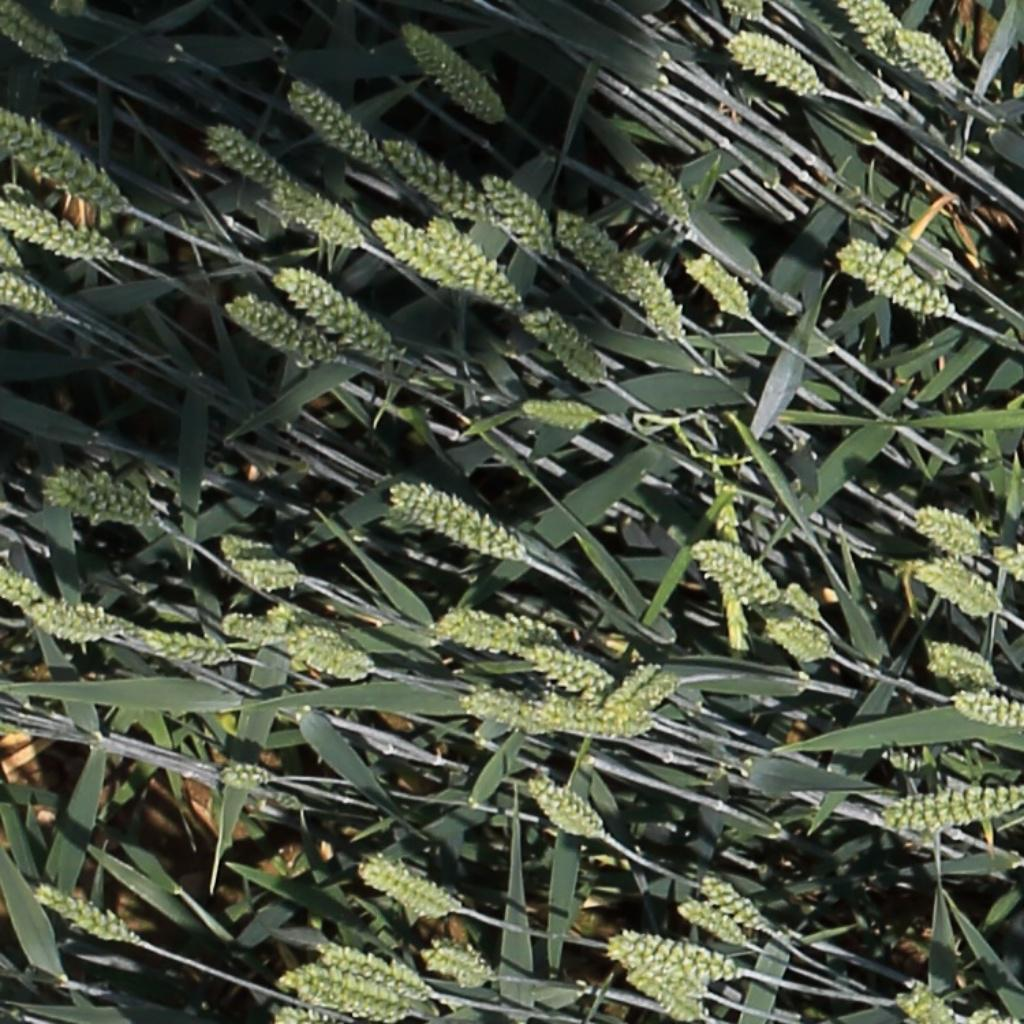0-0: (1, 106, 138, 216), (389, 16, 512, 123), (391, 479, 533, 567), (270, 265, 401, 360), (383, 138, 500, 228), (427, 216, 529, 316), (838, 238, 959, 320), (40, 465, 172, 537), (288, 78, 385, 172), (219, 286, 340, 358), (885, 782, 1024, 842), (372, 218, 480, 295), (0, 198, 126, 264), (556, 208, 641, 301), (721, 27, 831, 98), (428, 604, 572, 658), (281, 962, 412, 1020), (207, 124, 305, 200), (318, 943, 437, 1003), (483, 171, 561, 262), (31, 884, 142, 945), (520, 308, 610, 383), (618, 929, 742, 983), (276, 181, 370, 251), (690, 538, 783, 608), (608, 936, 710, 999), (624, 247, 685, 346), (530, 696, 659, 741), (358, 861, 458, 919), (282, 622, 377, 682), (684, 248, 756, 326), (137, 612, 245, 664), (528, 778, 612, 844), (908, 560, 1003, 618), (458, 685, 561, 737), (531, 640, 616, 696), (622, 970, 708, 1024), (600, 661, 684, 716), (700, 876, 774, 938), (889, 23, 959, 87), (20, 602, 126, 642), (221, 551, 302, 599), (1, 2, 65, 62), (423, 939, 503, 987), (636, 161, 696, 224), (915, 505, 987, 557), (841, 2, 900, 64), (0, 273, 69, 322), (765, 617, 836, 664), (676, 900, 750, 945), (932, 640, 999, 689), (892, 979, 964, 1022), (214, 525, 297, 562), (521, 394, 601, 431), (219, 610, 295, 648), (212, 756, 276, 801), (952, 689, 1024, 727), (0, 567, 50, 606), (267, 1003, 344, 1024), (785, 583, 825, 620), (1, 227, 31, 271), (995, 543, 1024, 577), (724, 0, 763, 23)
